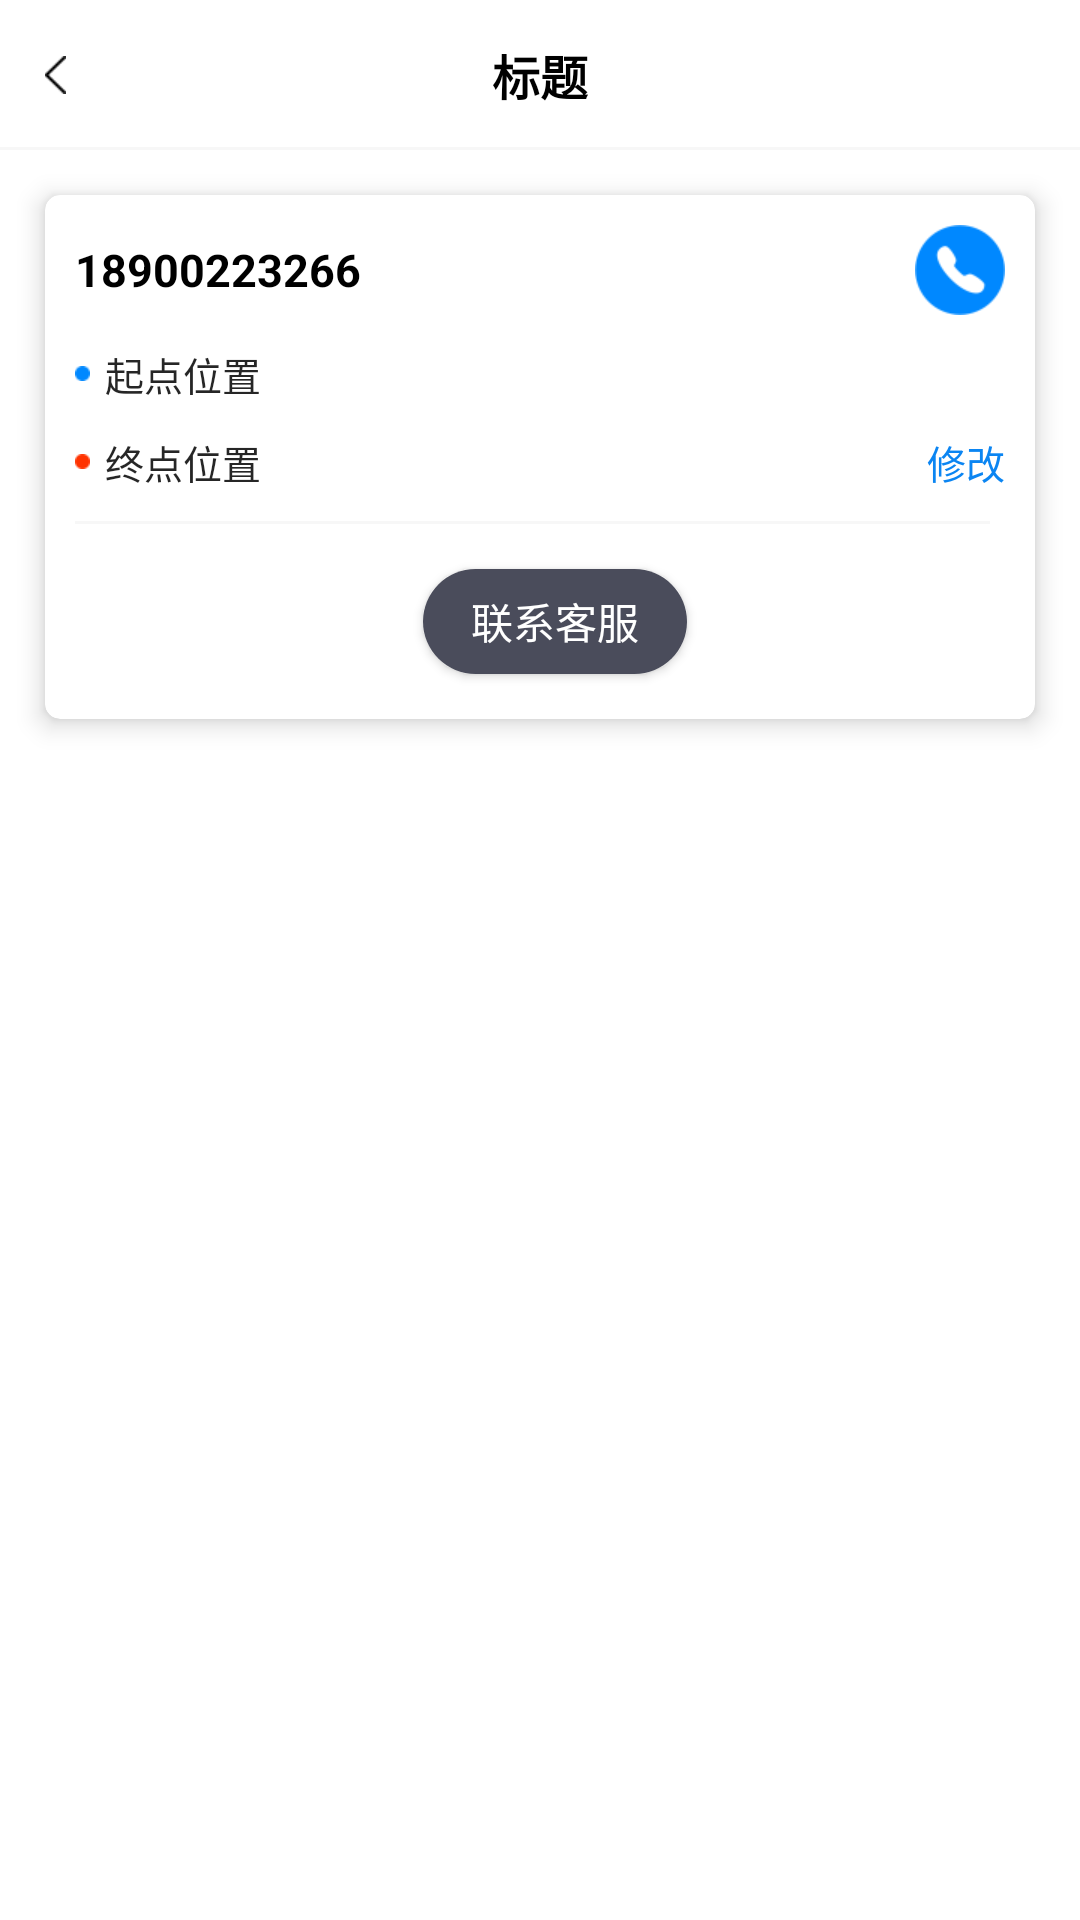

Icons on this 1080×1920 Android screen, each with the point to tap as [x,y]:
back: [55,75]
